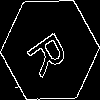R: (25, 25, 77, 80)
